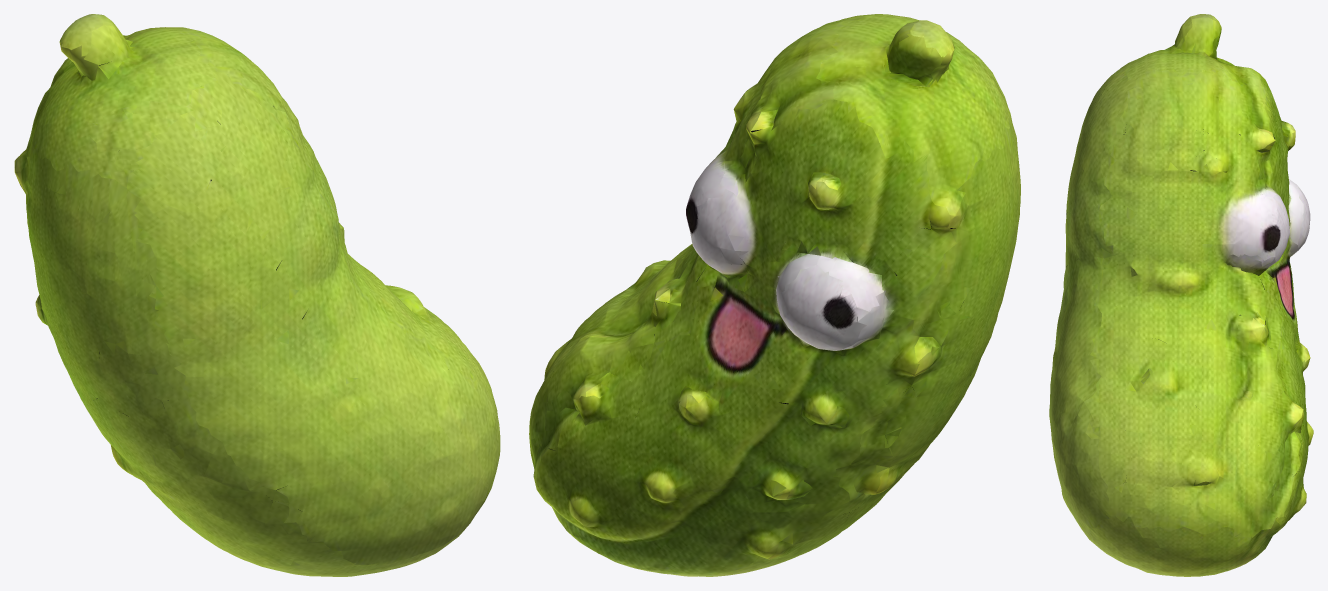
File: ppik.glb
The picture shows the model from 3 angles, left to right: view 1: azimuth 30°, elevation 25°; view 2: azimuth 150°, elevation 25°; view 3: azimuth 270°, elevation 25°; orthographic projection. The views are drawn at different scales.
Visible parts, largest first — view 1: world; view 2: world; view 3: world.
Part boxes in pixels (left/top/right/bottom): world: left=14, top=14, right=500, bottom=576; world: left=529, top=14, right=1020, bottom=576; world: left=1049, top=14, right=1313, bottom=576.
Bounding box in the file's own units: 0.718 × 0.9314 × 0.4903.
1 material, 1 textured.
